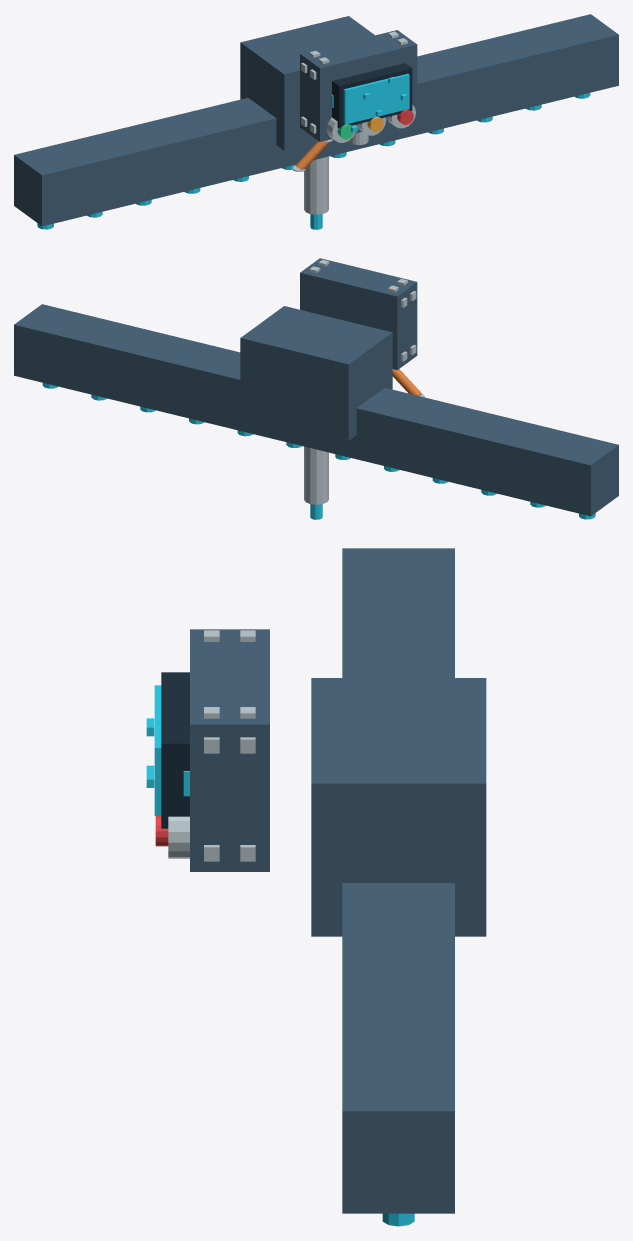
File: 40_L78_LowKFilmGrowthOpticalMonitor.fbx
3 views of the same model, one above another, from view 1: azimuth 30°, elevation 25°; view 2: azimuth 150°, elevation 25°; view 3: azimuth 270°, elevation 25° (orthographic). The views are drawn at different scales.
Parts seen in each view (by area): view 1: LowKFilmGrowthOpticalMonitor, LowKFilmGrowthOpticalMonitor_Part_0039, LowKFilmGrowthOpticalMonitor_Part_0040; view 2: LowKFilmGrowthOpticalMonitor, LowKFilmGrowthOpticalMonitor_Part_0039, LowKFilmGrowthOpticalMonitor_Part_0040; view 3: LowKFilmGrowthOpticalMonitor, LowKFilmGrowthOpticalMonitor_Part_0039.
Part boxes in pixels (x1,y1,x2,y2): LowKFilmGrowthOpticalMonitor: (14, 14, 618, 229); LowKFilmGrowthOpticalMonitor_Part_0039: (240, 16, 389, 150); LowKFilmGrowthOpticalMonitor_Part_0040: (304, 156, 328, 214); LowKFilmGrowthOpticalMonitor: (14, 258, 618, 519); LowKFilmGrowthOpticalMonitor_Part_0039: (240, 306, 392, 440); LowKFilmGrowthOpticalMonitor_Part_0040: (304, 446, 328, 504); LowKFilmGrowthOpticalMonitor: (146, 548, 454, 1226); LowKFilmGrowthOpticalMonitor_Part_0039: (311, 678, 486, 936).
Size of the model in its own units: 213 by 74.65 by 54.3.
